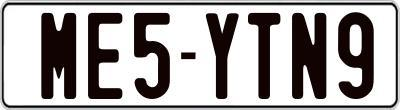5: (133, 13, 170, 103)
9: (336, 10, 374, 98)
E: (87, 12, 125, 98)
M: (40, 11, 76, 102)
N: (290, 10, 324, 98)
T: (245, 12, 278, 99)
Y: (204, 12, 242, 104)
